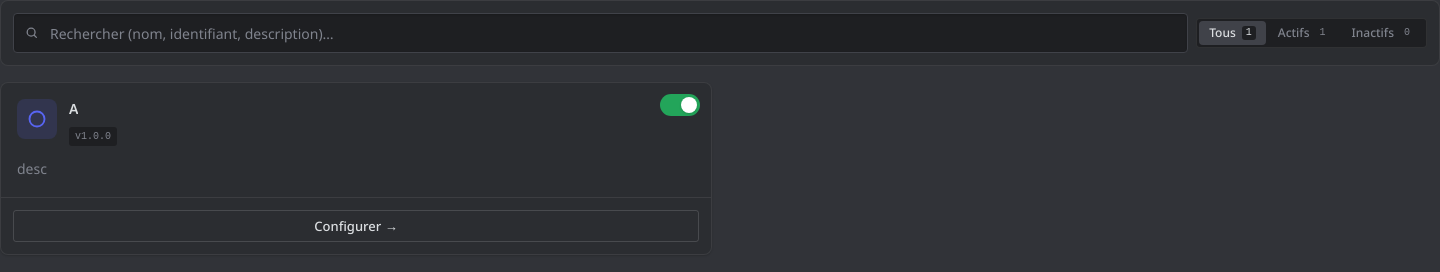
Test: ModuleList › affiche un empty state quand le filtre ne matche rien
Type "inexistant" into the search field named "Rechercher un module" at (601, 33), box x1=13 y1=13 x2=1188 y2=53
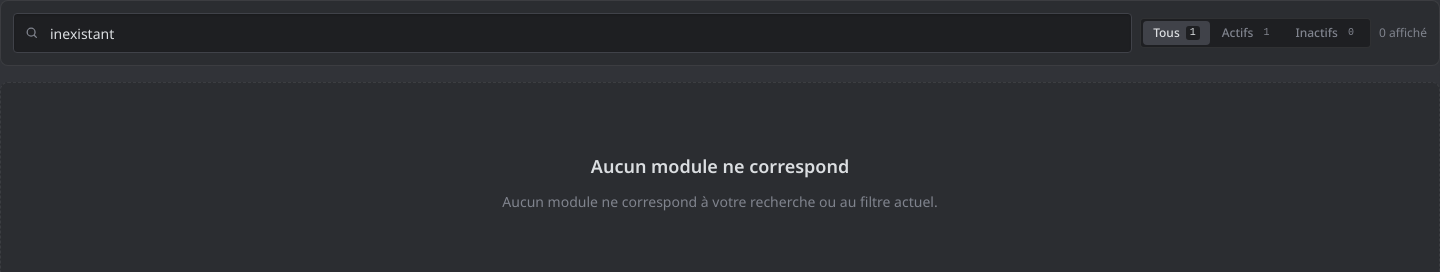
Now the heading "Aucun module ne correspond" is shown, box x1=591 y1=152 x2=849 y2=180
